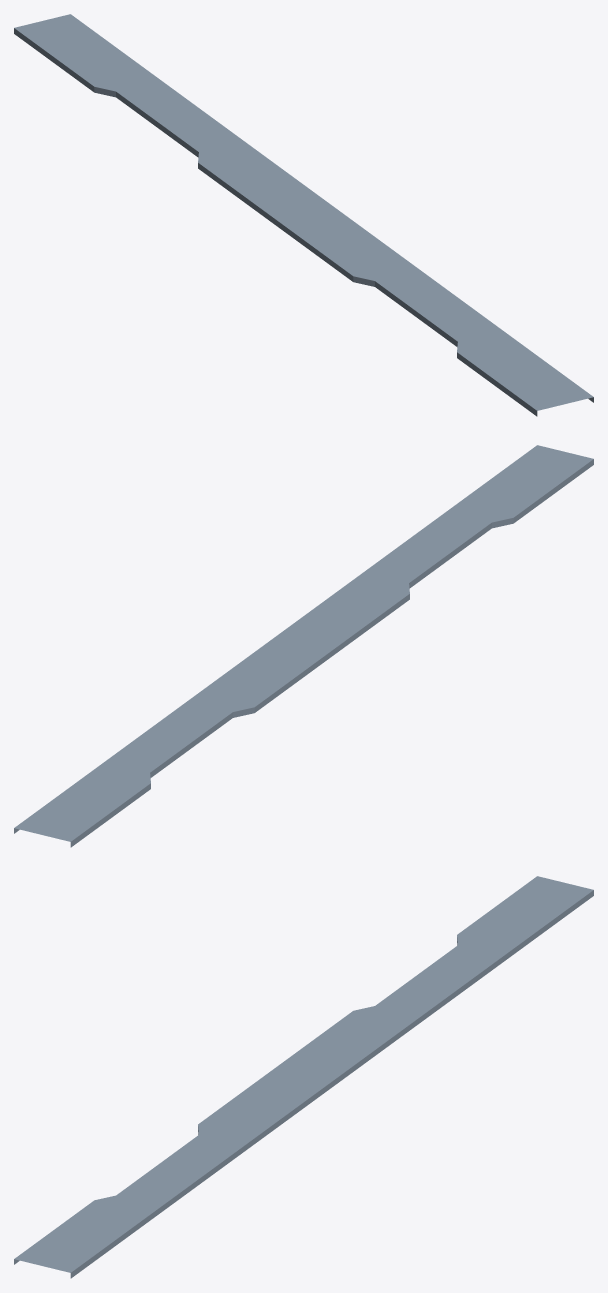
The model's file is RoadSideStraight.fbx.
The picture shows the model from 3 angles, top to bottom: view 1: azimuth 30°, elevation 25°; view 2: azimuth 150°, elevation 25°; view 3: azimuth 330°, elevation 25°; orthographic projection.
Parts seen in each view (by area): view 1: RoadSideStraight; view 2: RoadSideStraight; view 3: RoadSideStraight.
Boxes of the visible parts, x1,y1,x2,y2 form: RoadSideStraight: (14, 14, 593, 416); RoadSideStraight: (14, 445, 593, 847); RoadSideStraight: (14, 876, 593, 1278).
Bounding box in the file's own units: 100 × 10 × 1600.
